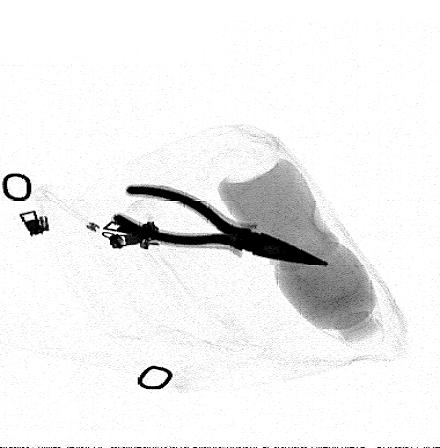Pliers: (109, 185, 330, 267)
